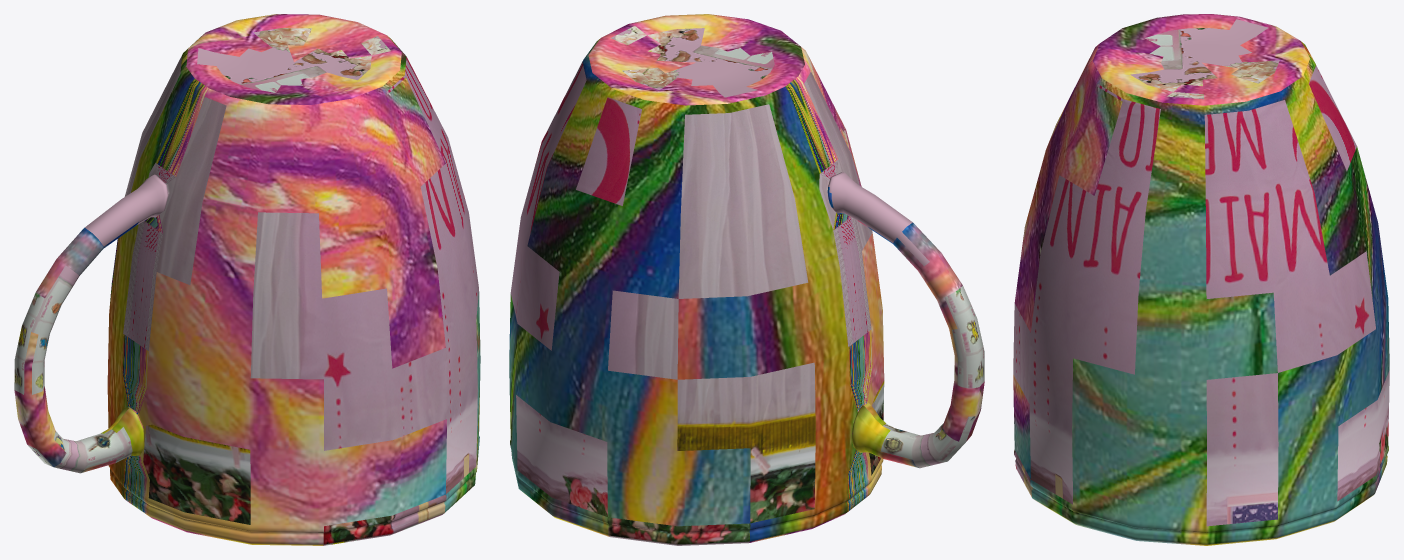
Rendered from mug-photo-flowers.obj.
The picture shows the model from 3 angles, left to right: view 1: azimuth 30°, elevation 25°; view 2: azimuth 150°, elevation 25°; view 3: azimuth 270°, elevation 25°; orthographic projection.
Parts seen in each view (by area): view 1: crockery_cup_mesh; view 2: crockery_cup_mesh; view 3: crockery_cup_mesh.
Boxes of the visible parts, box(x1,y1,x2,y2) form: crockery_cup_mesh: box(14, 14, 480, 545); crockery_cup_mesh: box(509, 14, 984, 545); crockery_cup_mesh: box(1013, 14, 1389, 545).
Size of the model in its own units: 11.29 by 9.99 by 8.3.
Materials: 2 (2 with a texture image).
